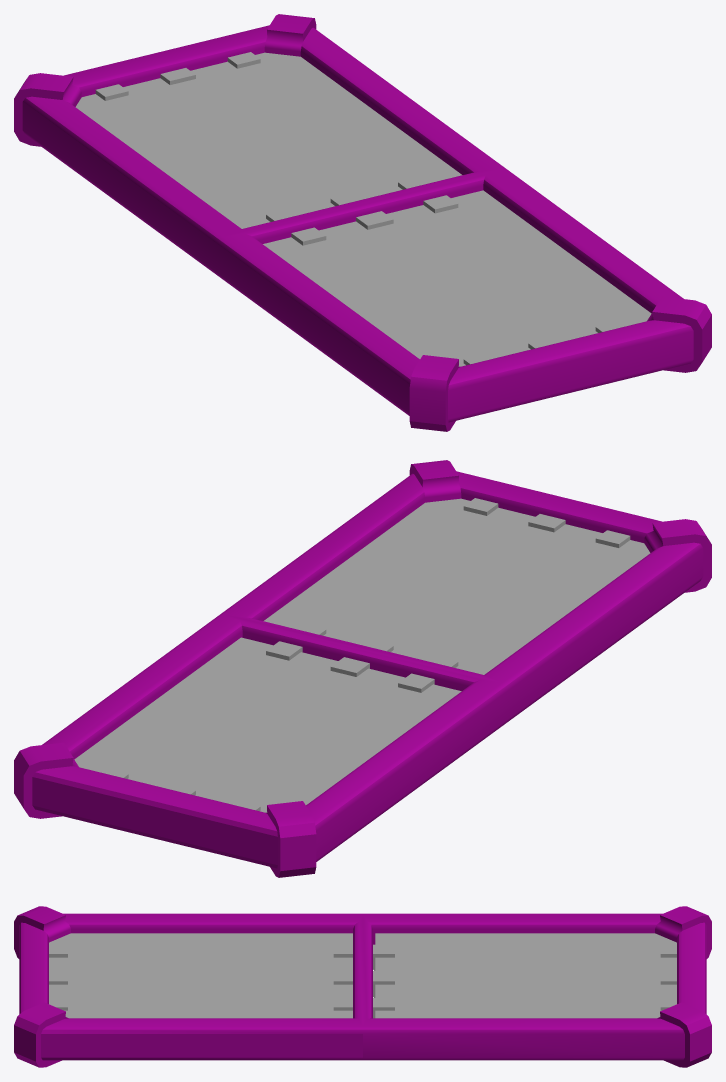
Rendered from Plataforma.fbx.
The picture shows the model from 3 angles, top to bottom: view 1: azimuth 30°, elevation 25°; view 2: azimuth 150°, elevation 25°; view 3: azimuth 270°, elevation 25°; orthographic projection. The views are drawn at different scales.
Visible parts, largest first — view 1: pCube2, pCube1; view 2: pCube2, pCube1; view 3: pCube1, pCube2.
Part boxes in pixels (x1,y1,x2,y2): pCube2: (75,52,651,366); pCube1: (14,14,711,431); pCube2: (74,498,650,812); pCube1: (14,460,711,877); pCube1: (14,906,711,1067); pCube2: (49,933,676,1018).
Bounding box in the file's own units: 650 × 118 × 1572.
